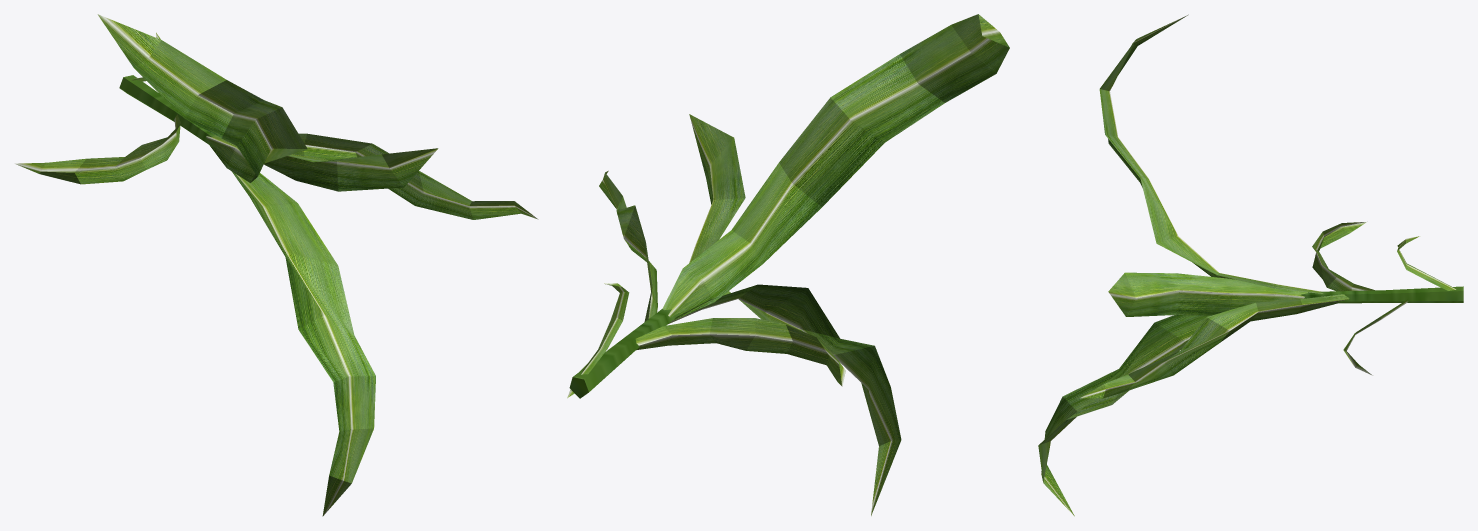
The model's file is maize_small.obj.
3 views of the same model, side by side, from view 1: azimuth 30°, elevation 25°; view 2: azimuth 150°, elevation 25°; view 3: azimuth 270°, elevation 25° (orthographic). The views are drawn at different scales.
Visible parts, largest first — view 1: maize_small_unit.001_Plane.008; view 2: maize_small_unit.001_Plane.008; view 3: maize_small_unit.001_Plane.008.
Part boxes in pixels (x1,y1,x2,y2): maize_small_unit.001_Plane.008: [15, 14, 538, 516]; maize_small_unit.001_Plane.008: [567, 14, 1009, 515]; maize_small_unit.001_Plane.008: [1038, 14, 1463, 516].
Size of the model in its own units: 0.1912 by 0.2383 by 0.2115.
1 material, 1 textured.
